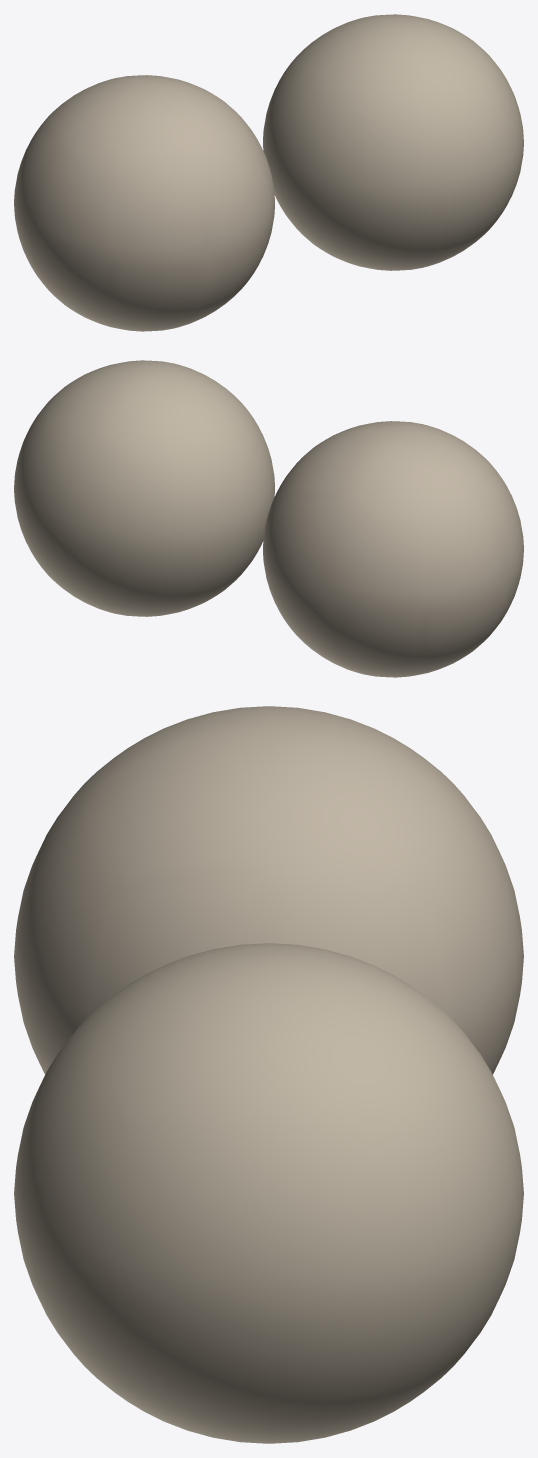
File: CompareNormal.gltf
3 views of the same model, one above another, from view 1: azimuth 30°, elevation 25°; view 2: azimuth 150°, elevation 25°; view 3: azimuth 270°, elevation 25° (orthographic). The views are drawn at different scales.
Visible parts, largest first — view 1: Sphere001, Sphere002; view 2: Sphere001, Sphere002; view 3: Sphere002, Sphere001.
Part boxes in pixels (x1,y1,x2,y2): Sphere001: (14, 75, 274, 331); Sphere002: (263, 14, 523, 270); Sphere001: (263, 421, 523, 677); Sphere002: (14, 360, 274, 616); Sphere002: (14, 943, 523, 1443); Sphere001: (14, 706, 523, 1074).
Size of the model in its own units: 2.1 by 0.9803 by 1.
